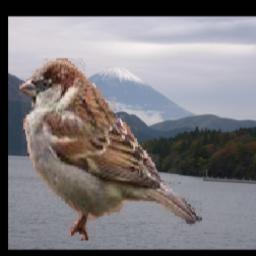Sparrow: (19, 58, 202, 241)
